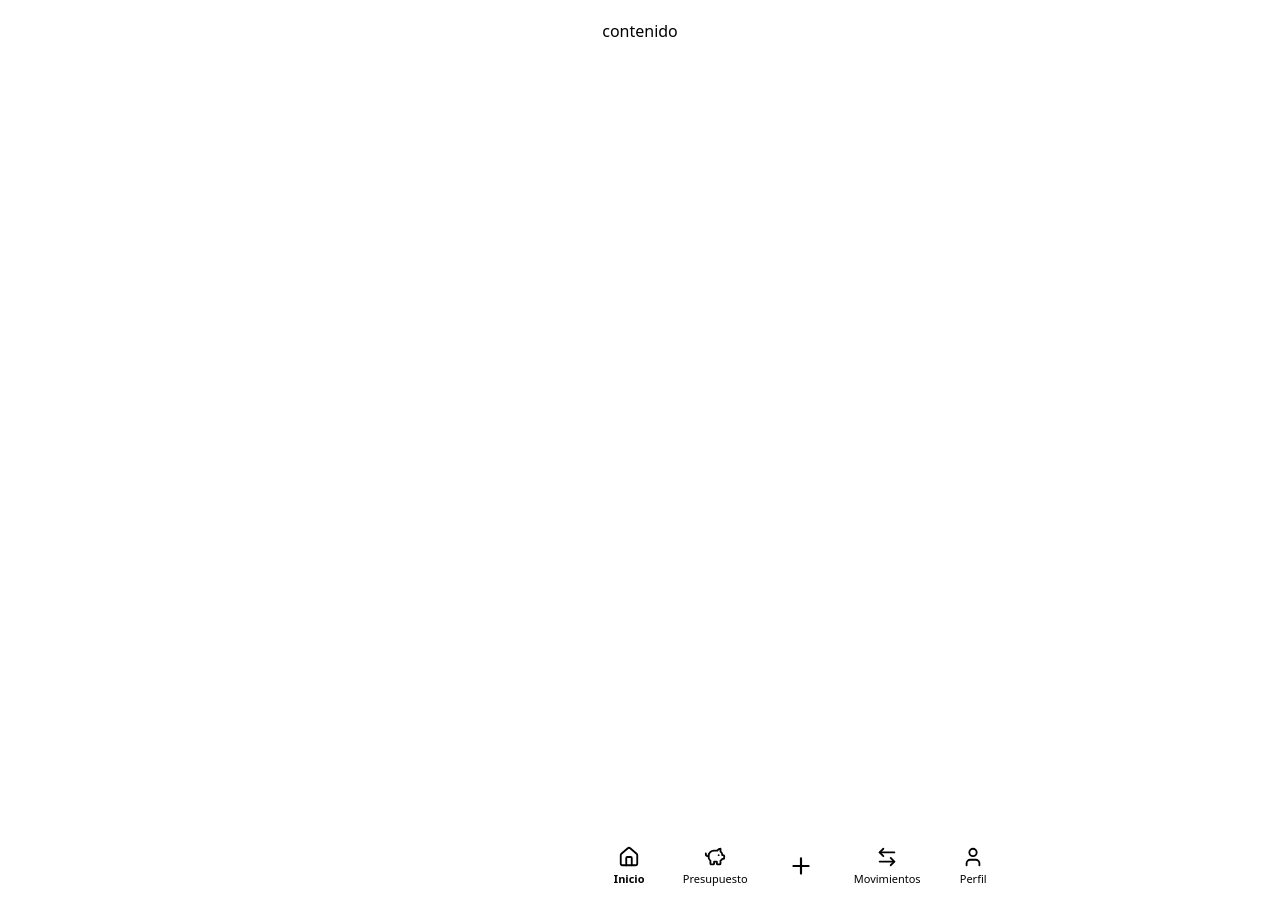
Scenario: shell layout › opens the add sheet from the FAB with the picker data inside the provider
The image size is (1280, 900).
What coordinates should you click on to do the following:
click the button named "Agregar movimiento"
I would click on:
 (801, 866)
Its box is [775, 840, 827, 892].
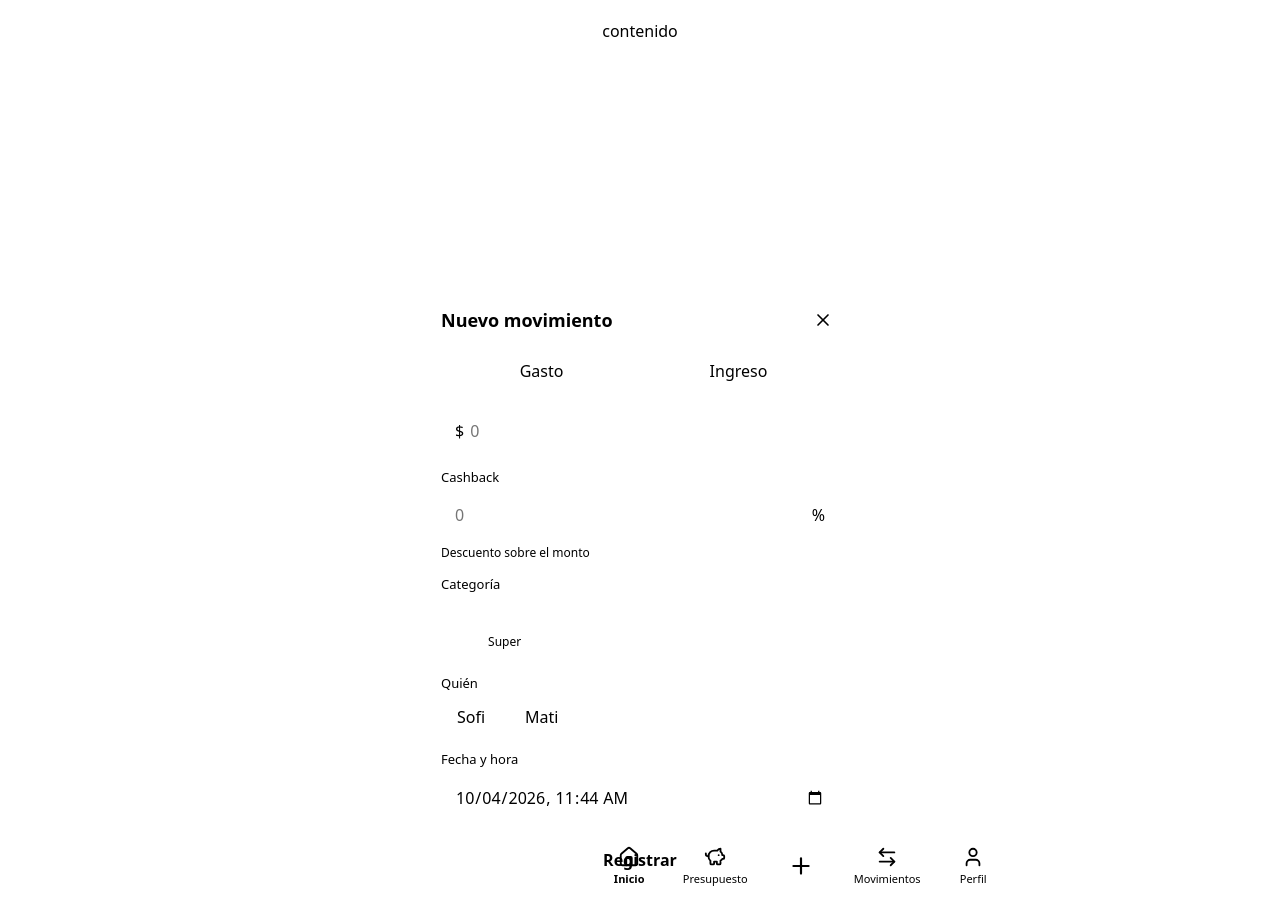
Expected: the dialog is shown, [425, 288, 855, 899]
Expected: the radio button labelled "Super" is shown, [441, 599, 568, 660]
Expected: the radio button labelled "Sofi" is shown, [441, 698, 501, 736]
